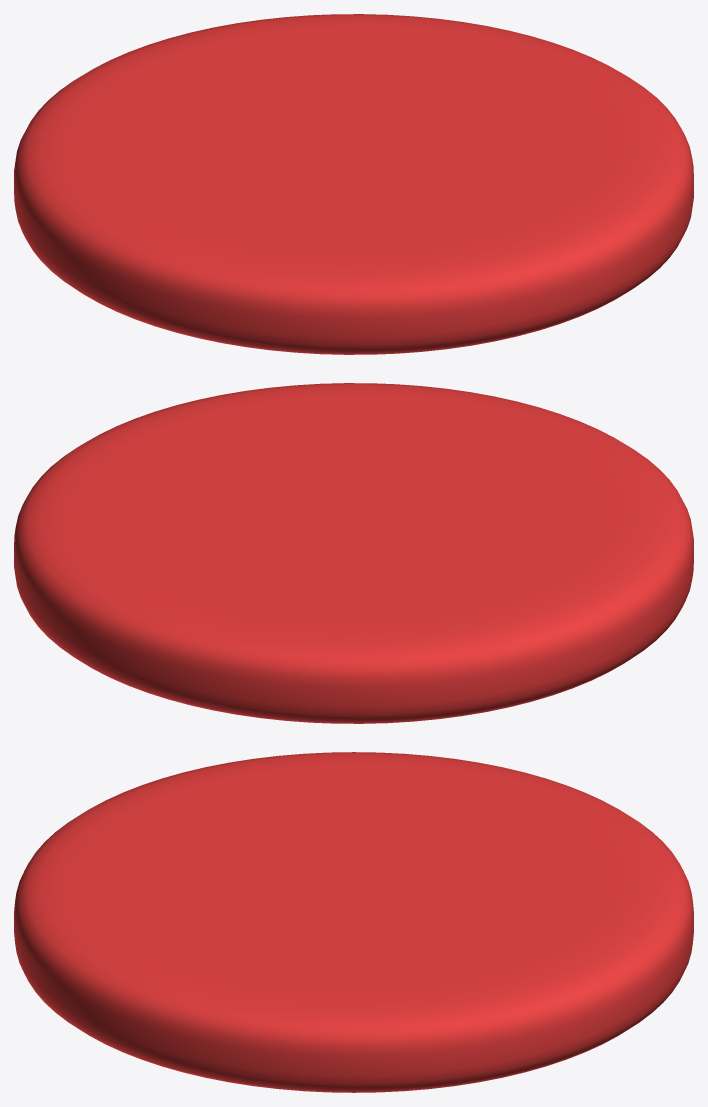
Rendered from CirculoRojo.fbx.
3 renders of one model, top to bottom at view 1: azimuth 30°, elevation 25°; view 2: azimuth 150°, elevation 25°; view 3: azimuth 270°, elevation 25°, orthographic.
Visible parts, largest first — view 1: CirculoRojo; view 2: CirculoRojo; view 3: CirculoRojo.
Boxes of the visible parts, x1,y1,x2,y2 form: CirculoRojo: (14,14,693,354); CirculoRojo: (14,383,693,723); CirculoRojo: (14,752,693,1092).
Size of the model in its own units: 1.2 by 0.1488 by 1.2.
